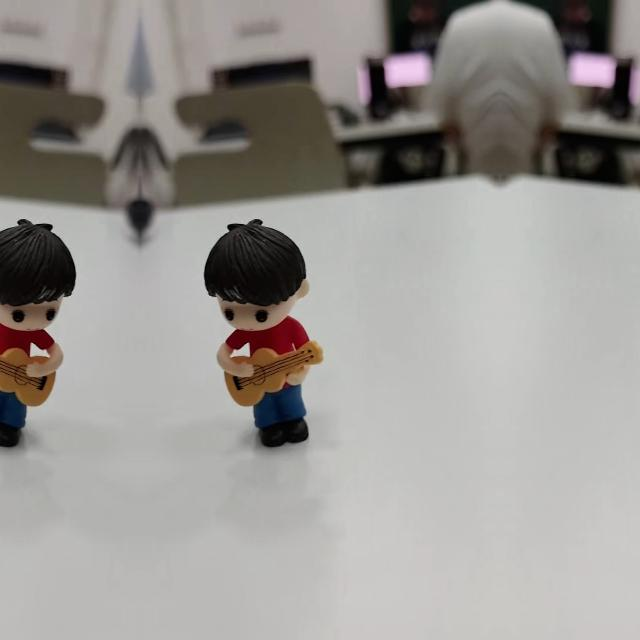man cloth: (222, 322, 312, 360), (0, 322, 58, 359)
man head: (203, 215, 311, 333), (0, 215, 77, 333)
trousers: (256, 378, 314, 452), (0, 378, 24, 452)
